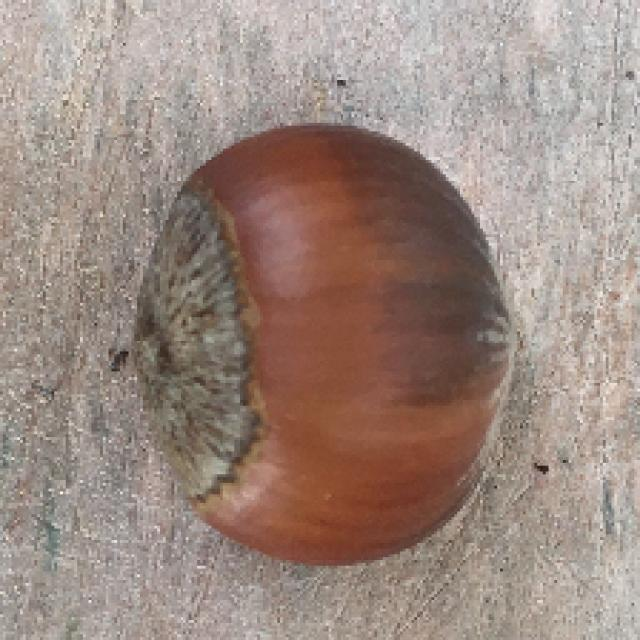damagedHazelnut: (119, 104, 550, 565)
